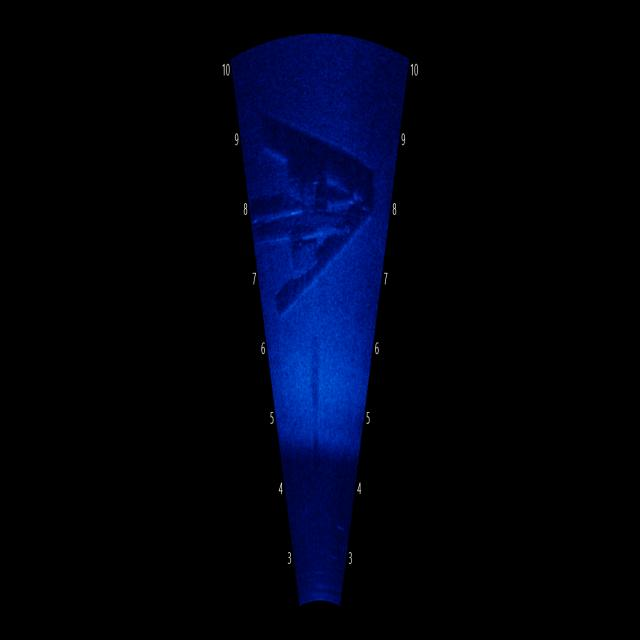triangle: (246, 111, 376, 319)
